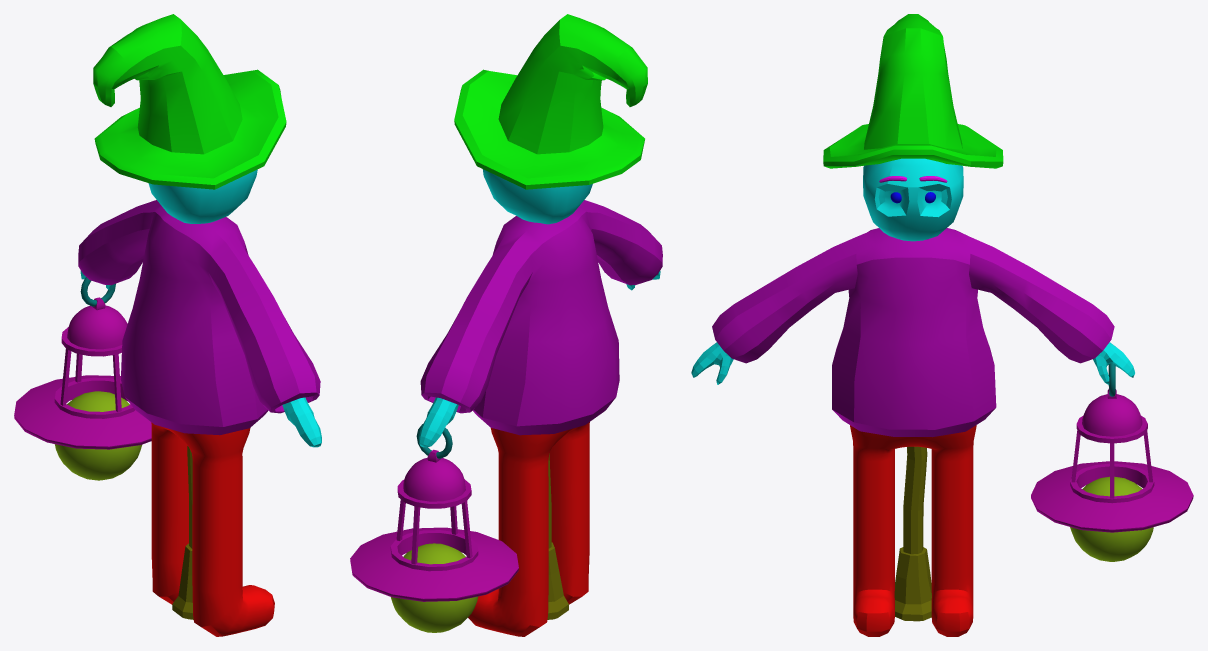
The model's file is Player_all_meshes_rig_game_export.fbx.
3 renders of one model, left to right at view 1: azimuth 30°, elevation 25°; view 2: azimuth 150°, elevation 25°; view 3: azimuth 270°, elevation 25°, orthographic. The views are drawn at different scales.
Visible parts, largest first — view 1: MESH_Player_Cloak, MESH_Player_Hat, MESH_Player_Body_Bottoms, polySurface26, MESH_Player_Head, polySurface22, MESH_Player_Hands; view 2: MESH_Player_Cloak, MESH_Player_Hat, MESH_Player_Body_Bottoms, polySurface26, MESH_Player_Head, polySurface22, MESH_Player_Hands; view 3: MESH_Player_Cloak, MESH_Player_Body_Bottoms, polySurface26, MESH_Player_Hat, MESH_Player_Head, polySurface22, MESH_Player_Hands.
Part boxes in pixels (x1,y1,x2,y2): MESH_Player_Cloak: (78, 200, 320, 435); MESH_Player_Hat: (93, 14, 286, 189); MESH_Player_Body_Bottoms: (151, 422, 274, 636); polySurface26: (14, 297, 151, 480); MESH_Player_Head: (148, 169, 257, 223); polySurface22: (172, 446, 193, 619); MESH_Player_Hands: (80, 270, 321, 447); MESH_Player_Cloak: (420, 200, 662, 435); MESH_Player_Hat: (454, 14, 647, 189); MESH_Player_Body_Bottoms: (468, 422, 589, 636); polySurface26: (350, 449, 518, 632); MESH_Player_Head: (482, 169, 592, 224); polySurface22: (547, 453, 568, 619); MESH_Player_Hands: (419, 271, 660, 447); MESH_Player_Cloak: (712, 228, 1114, 437); MESH_Player_Body_Bottoms: (850, 425, 976, 636); polySurface26: (1031, 388, 1193, 561); MESH_Player_Hat: (823, 14, 1003, 168); MESH_Player_Head: (863, 158, 963, 241); polySurface22: (894, 446, 931, 621); MESH_Player_Hands: (691, 342, 1134, 384).
Size of the model in its own units: 6.47 by 20.73 by 16.27.
